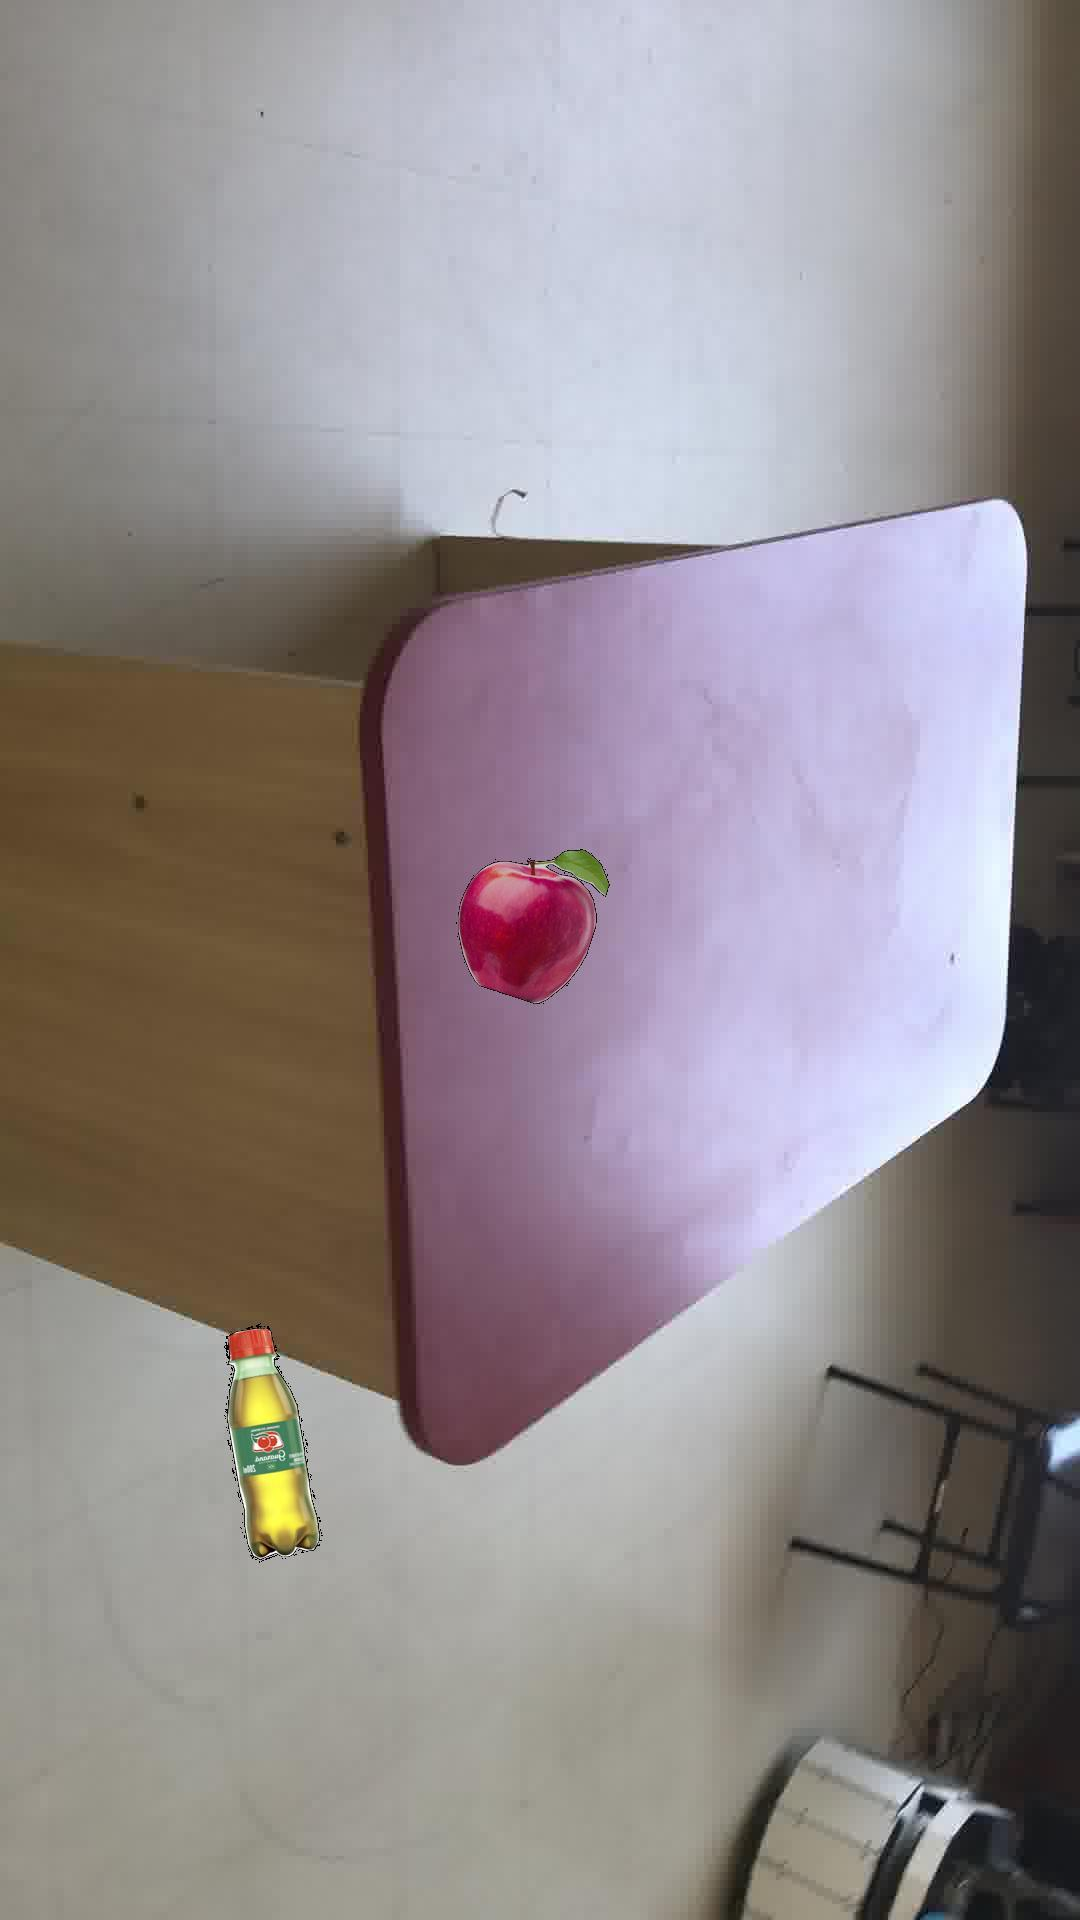apple: (456, 848, 608, 1002)
guarana: (223, 1323, 320, 1559)
